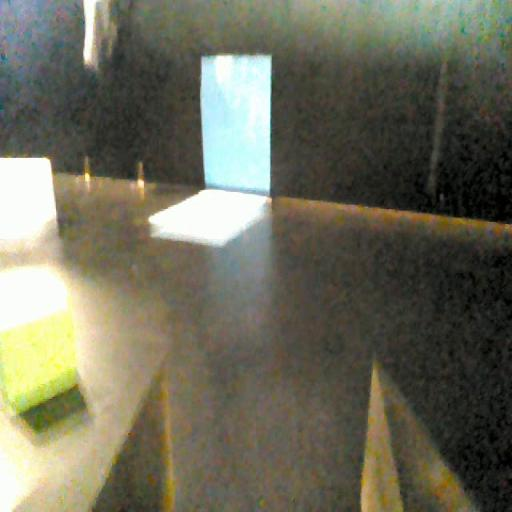cube: (0, 260, 86, 420)
